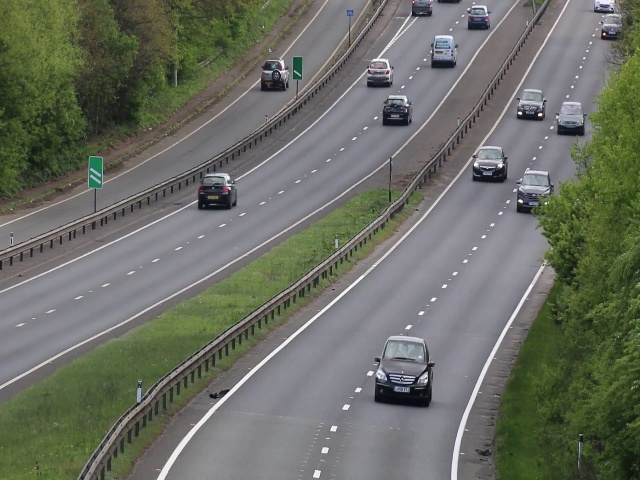car: (371, 335, 433, 409), (197, 171, 238, 211), (472, 147, 507, 181), (517, 169, 545, 211), (259, 56, 290, 92), (382, 92, 413, 126), (557, 101, 585, 136), (430, 35, 458, 70), (518, 87, 545, 119), (366, 58, 395, 87), (468, 5, 492, 28), (602, 11, 620, 39), (411, 1, 433, 17)
